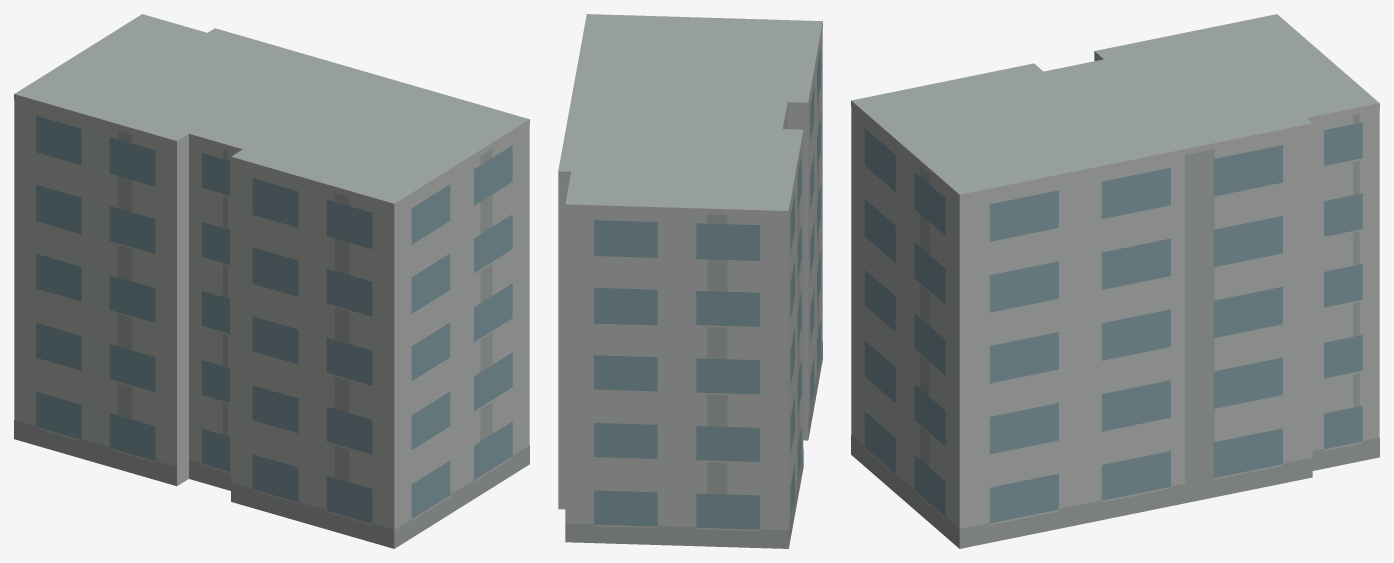
Rendered from survey-upis-32636424.glb.
3 renders of one model, left to right at view 1: azimuth 30°, elevation 25°; view 2: azimuth 150°, elevation 25°; view 3: azimuth 270°, elevation 25°, orthographic. The views are drawn at different scales.
Visible parts, largest first — view 1: survey-upis-32636424.tmp; view 2: survey-upis-32636424.tmp; view 3: survey-upis-32636424.tmp.
Part boxes in pixels (x1,y1,x2,y2): survey-upis-32636424.tmp: [14, 14, 529, 548]; survey-upis-32636424.tmp: [558, 14, 822, 548]; survey-upis-32636424.tmp: [851, 14, 1379, 548].
Size of the model in its own units: 15.61 by 14.25 by 19.29.
